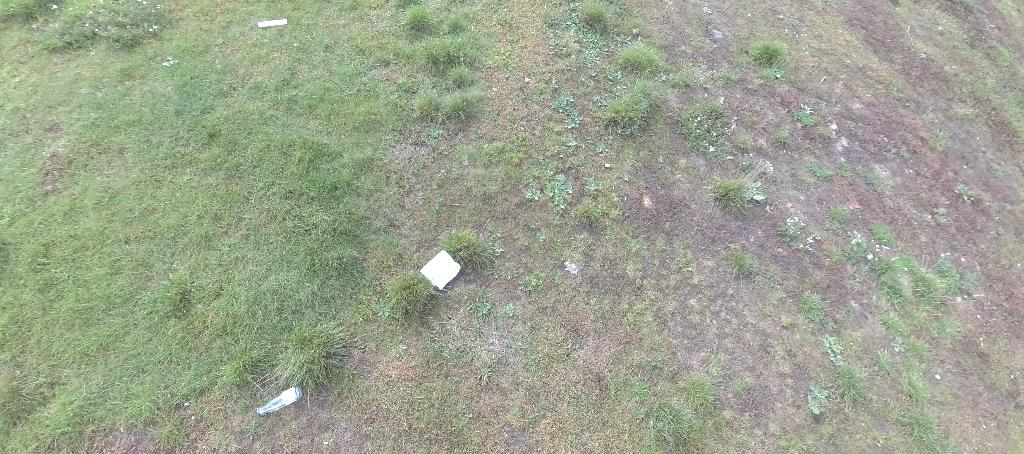garbage: (418, 248, 463, 293), (418, 248, 464, 291), (256, 382, 305, 416), (256, 385, 302, 415), (256, 18, 288, 27)
